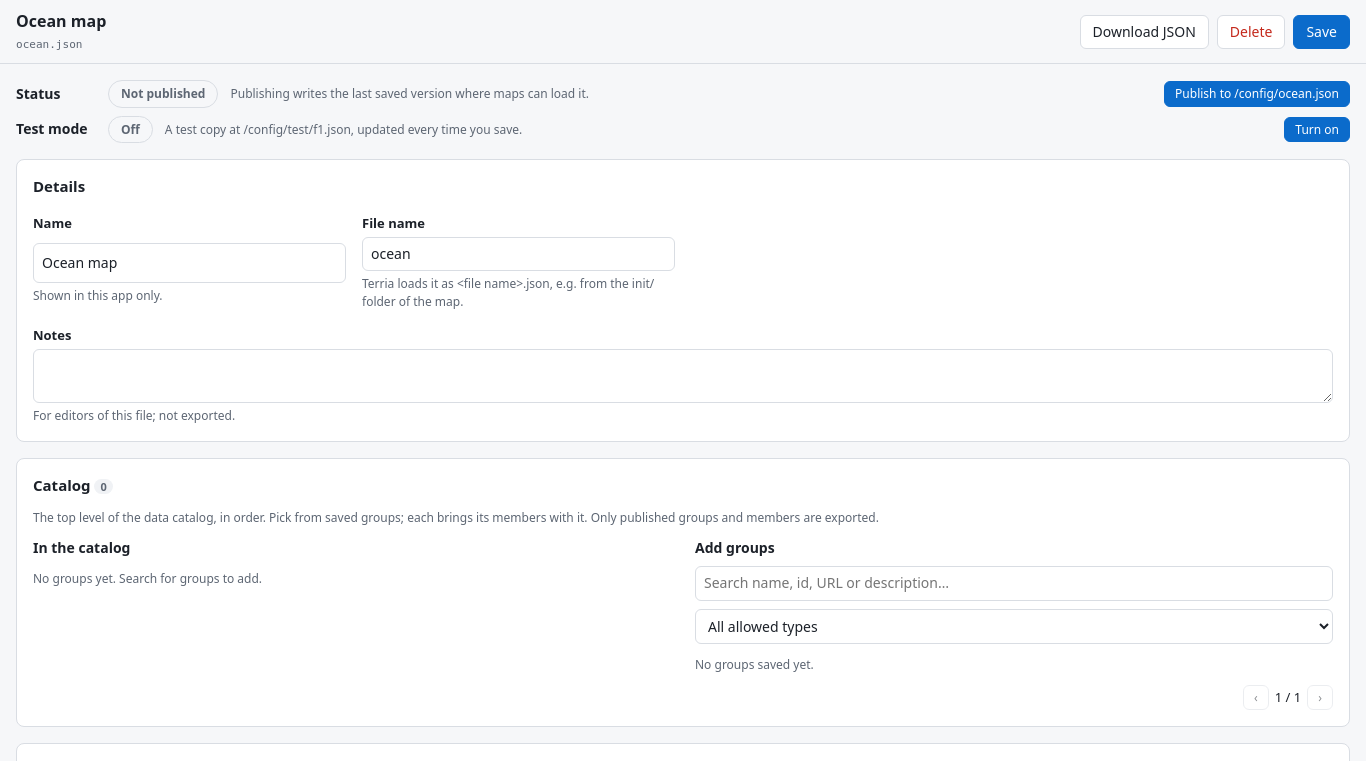
Test case: InitFileEditor: existing file › marks unsaved changes and saves with the loaded version
Expected: the heading "Ocean map" is shown, [16,10,106,33]
Clear the field labelled "Name Shown in this app only." at (190, 263), box [33,243,346,283]
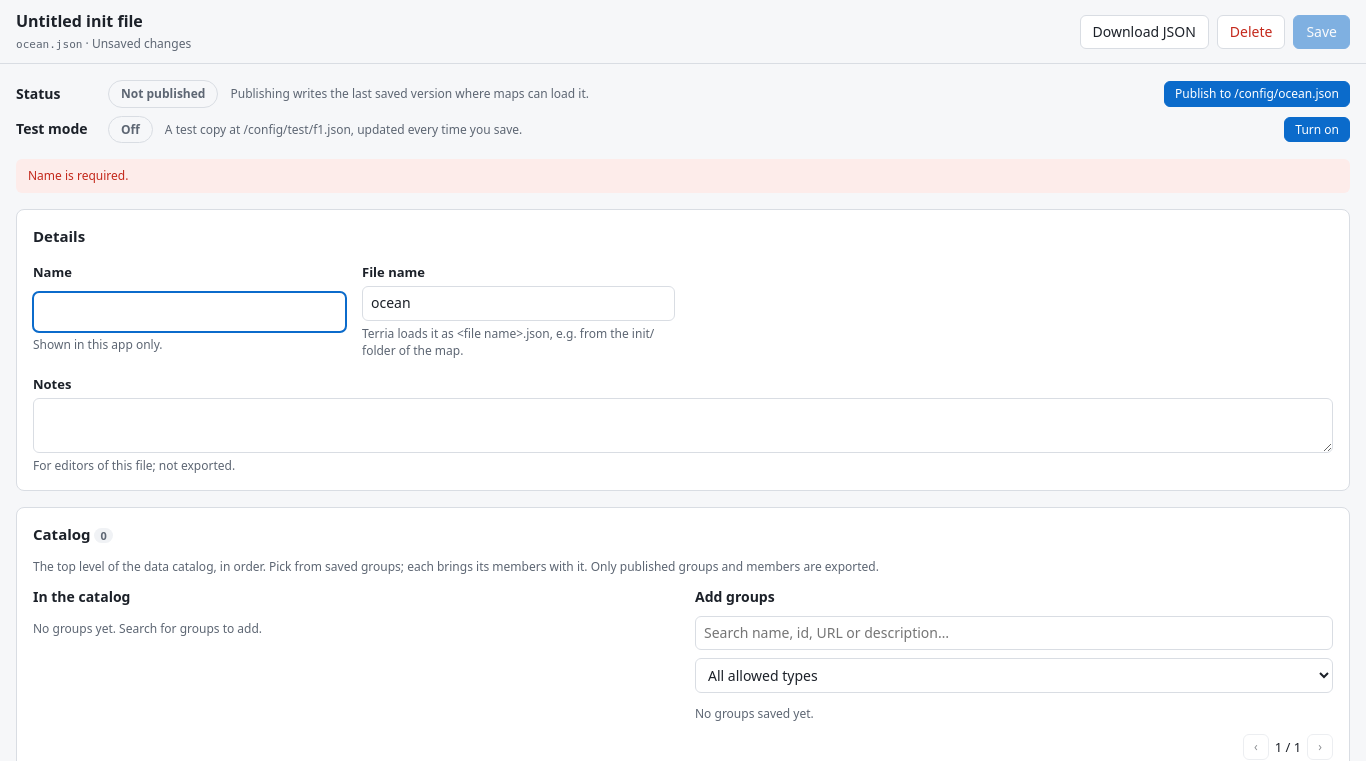
Type "Renamed" into the field labelled "Name Shown in this app only.".
click(190, 312); type("Renamed")  # box [33,292,346,332]
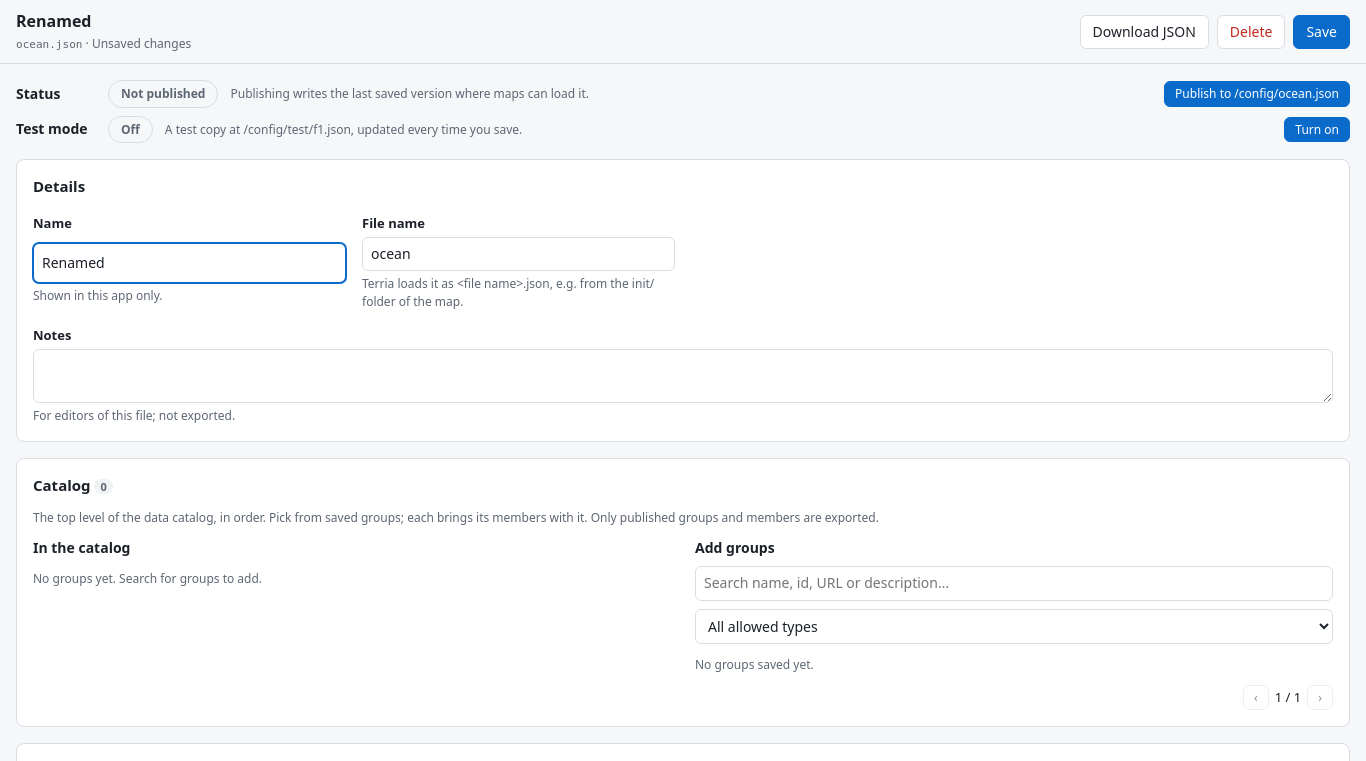
Result: the text "ocean.json · Unsaved changes" is shown at [16,35,191,52]
Click the button "Save".
click(1322, 32)  # box [1293,15,1350,49]
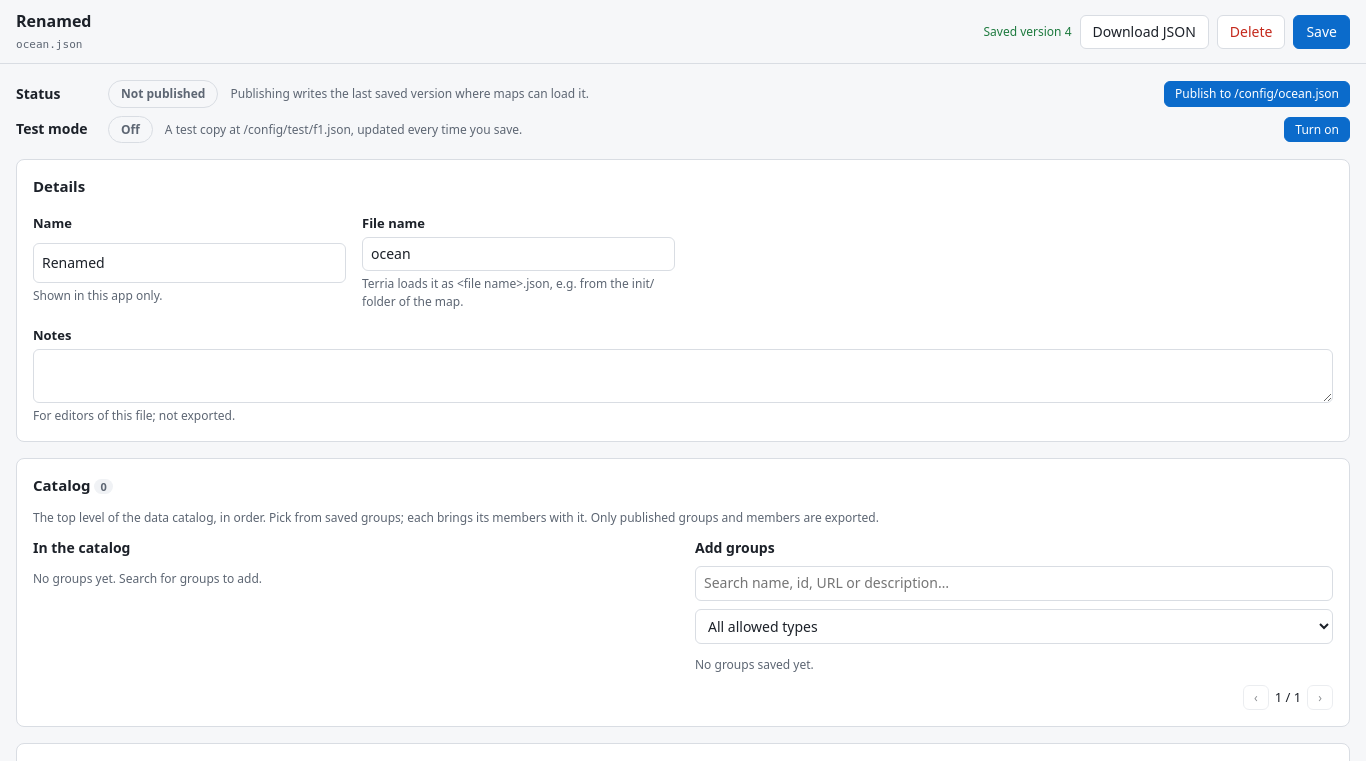
Result: the text "Saved version 4" is shown at [984,23,1072,40]
Result: the text "Unsaved changes" is gone
